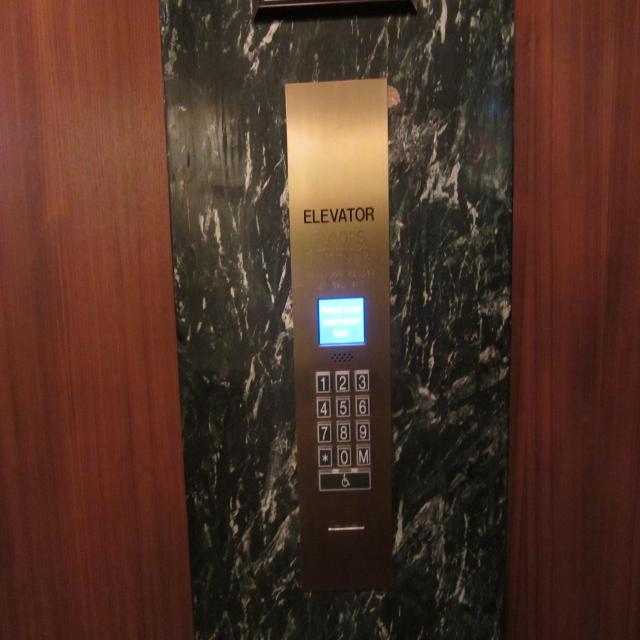0: (336, 444, 352, 467)
1: (316, 371, 330, 394)
2: (335, 370, 350, 392)
3: (354, 369, 369, 393)
4: (316, 396, 332, 418)
5: (334, 396, 350, 418)
6: (354, 394, 370, 417), (336, 420, 351, 442)
7: (316, 421, 332, 443)
9: (355, 419, 370, 442)
CH: (318, 469, 372, 491)
M: (355, 444, 371, 466)
led: (316, 296, 366, 346)
s: (317, 445, 332, 468)
